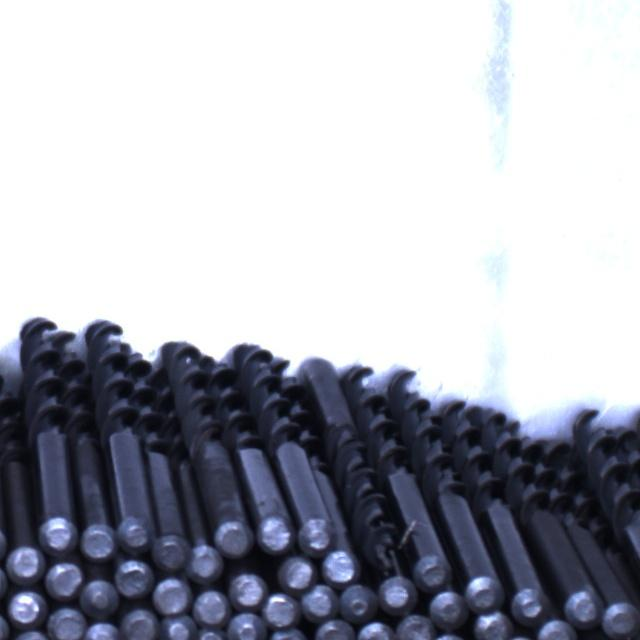tool: (257, 517, 296, 556), (6, 544, 44, 584), (301, 582, 340, 620), (46, 559, 84, 598), (376, 574, 414, 613), (116, 560, 155, 598), (340, 581, 378, 620), (41, 517, 79, 556), (214, 518, 253, 556), (430, 588, 467, 628), (82, 578, 120, 616), (151, 534, 189, 572), (262, 592, 301, 629), (278, 554, 318, 590), (564, 587, 600, 627), (230, 571, 268, 608), (603, 600, 640, 638), (414, 555, 452, 592), (188, 543, 224, 582), (323, 548, 360, 585), (118, 518, 155, 555), (152, 575, 190, 611), (82, 521, 118, 559), (468, 576, 504, 612), (48, 606, 86, 640), (8, 588, 44, 623), (192, 588, 229, 622), (121, 608, 159, 640), (300, 519, 334, 554), (514, 589, 548, 623), (396, 612, 435, 640), (226, 612, 264, 640), (162, 614, 198, 640), (477, 614, 511, 640), (538, 618, 578, 640), (316, 619, 357, 640), (357, 620, 395, 640), (85, 621, 122, 640), (12, 630, 52, 640), (0, 609, 10, 640), (0, 560, 7, 601), (432, 633, 470, 640)
